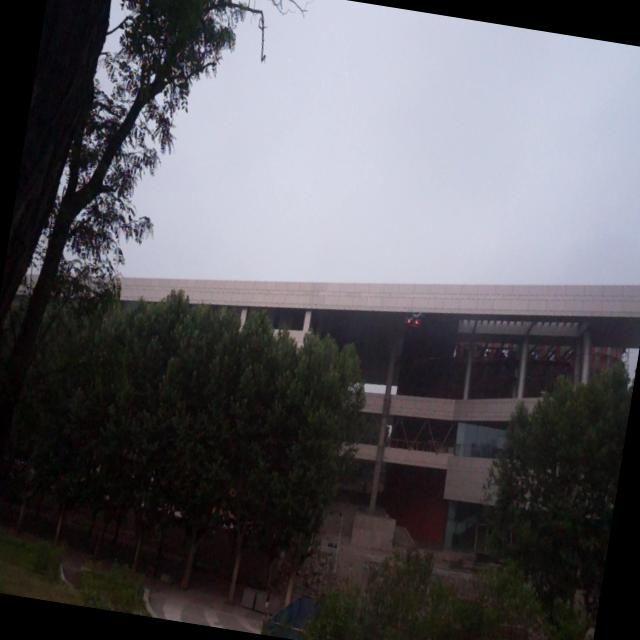drone: (404, 306, 426, 333)
